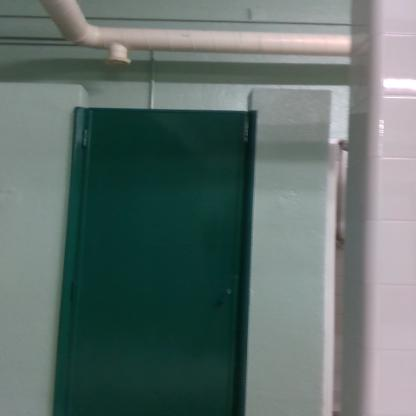closed: (48, 77, 276, 406)
